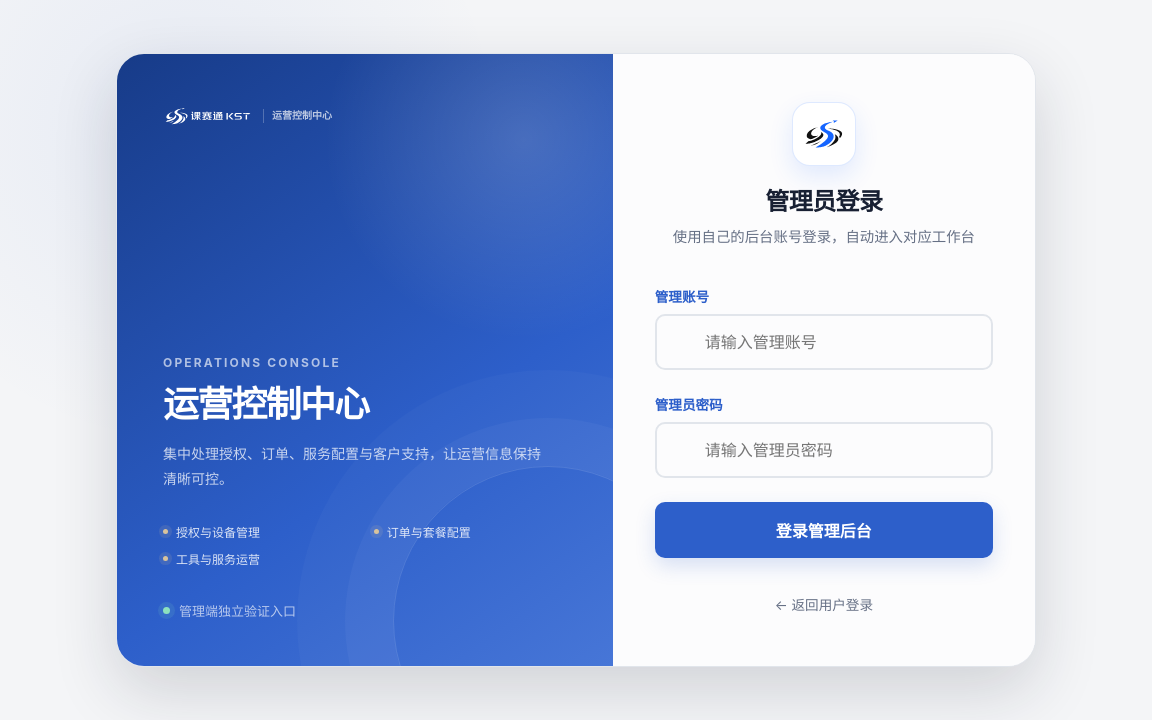
AdminLoginView › 登录流程测试 › 网络错误应该显示连接失败信息
Type "owner" into the field with id "adminUsername" at [824, 342], box [655, 314, 993, 370]
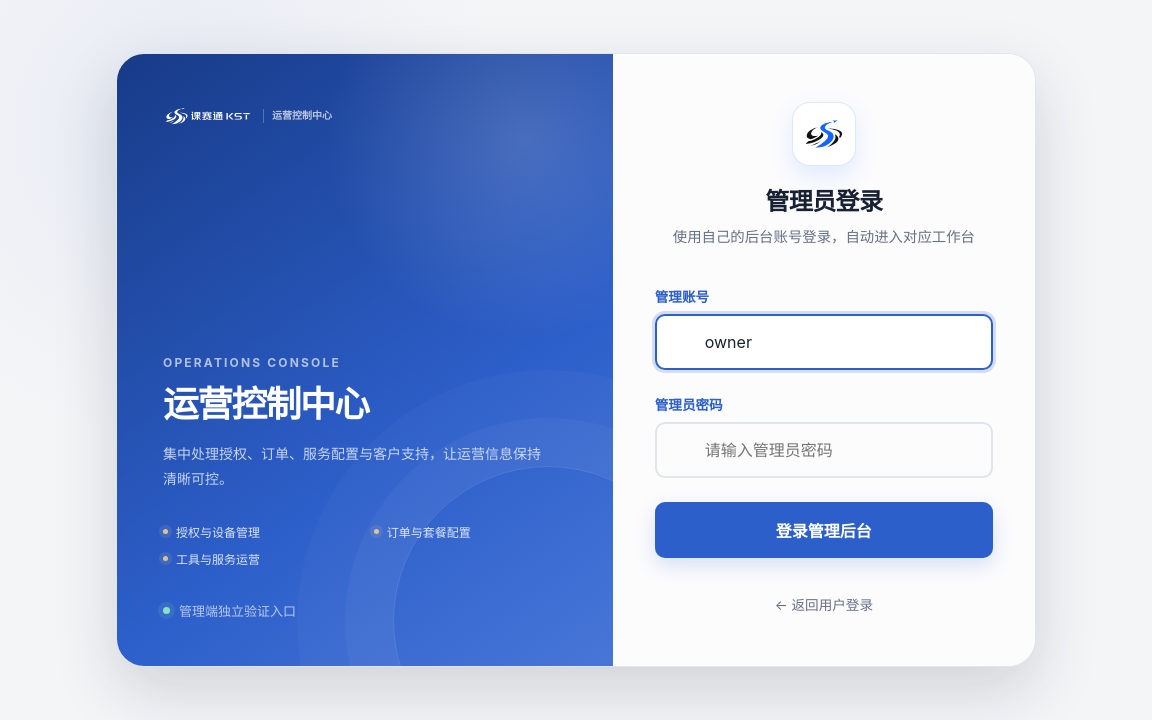
Type "Test-only-pass-123" into the password field with id "adminPassword" at [824, 450], box [655, 422, 993, 478]
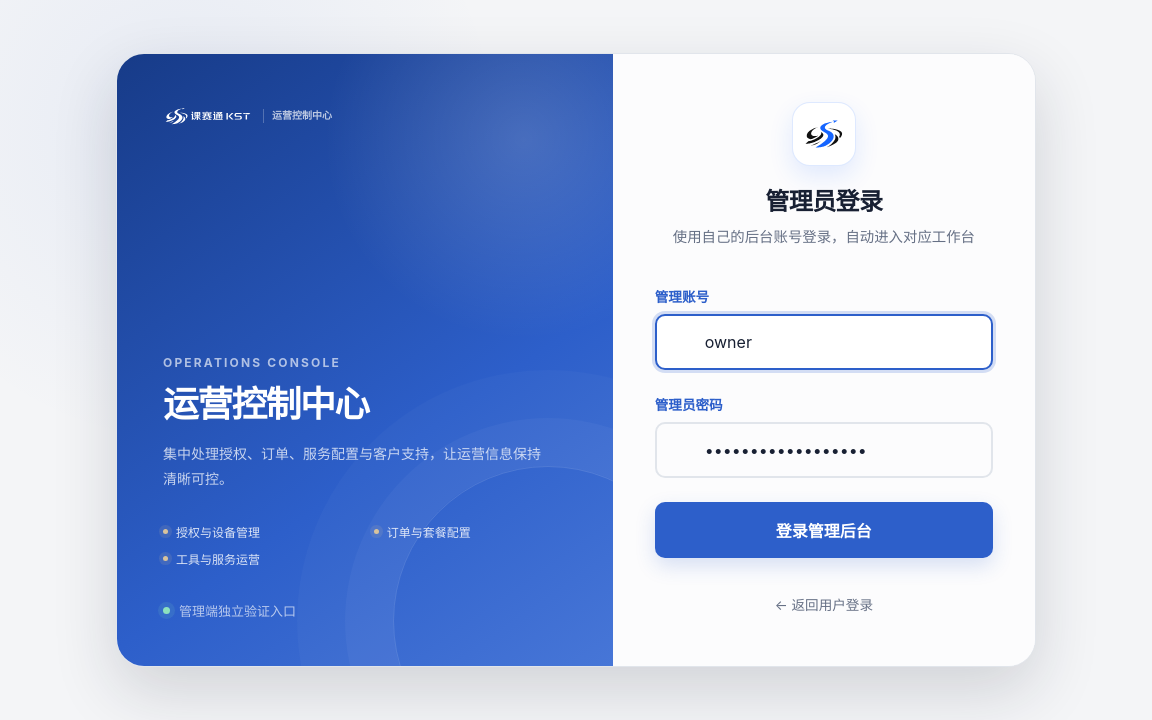
Submit the form, box [655, 286, 993, 558]
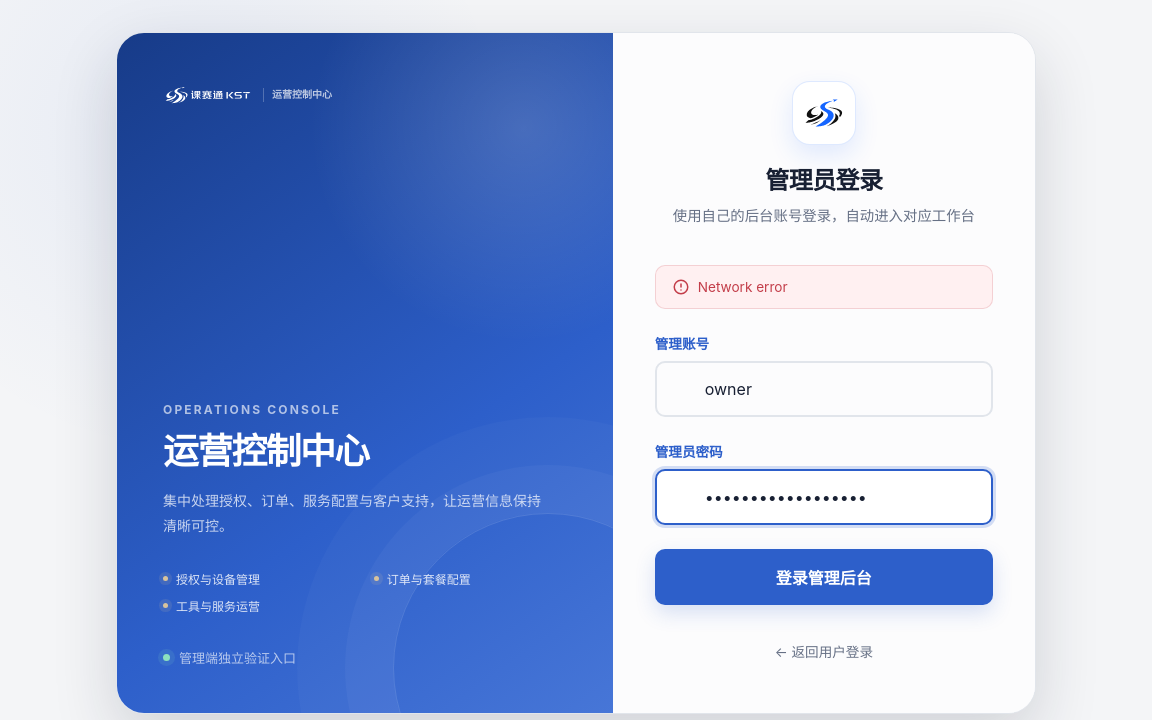
expect the text "Network error" is shown: met, box [698, 279, 788, 295]
